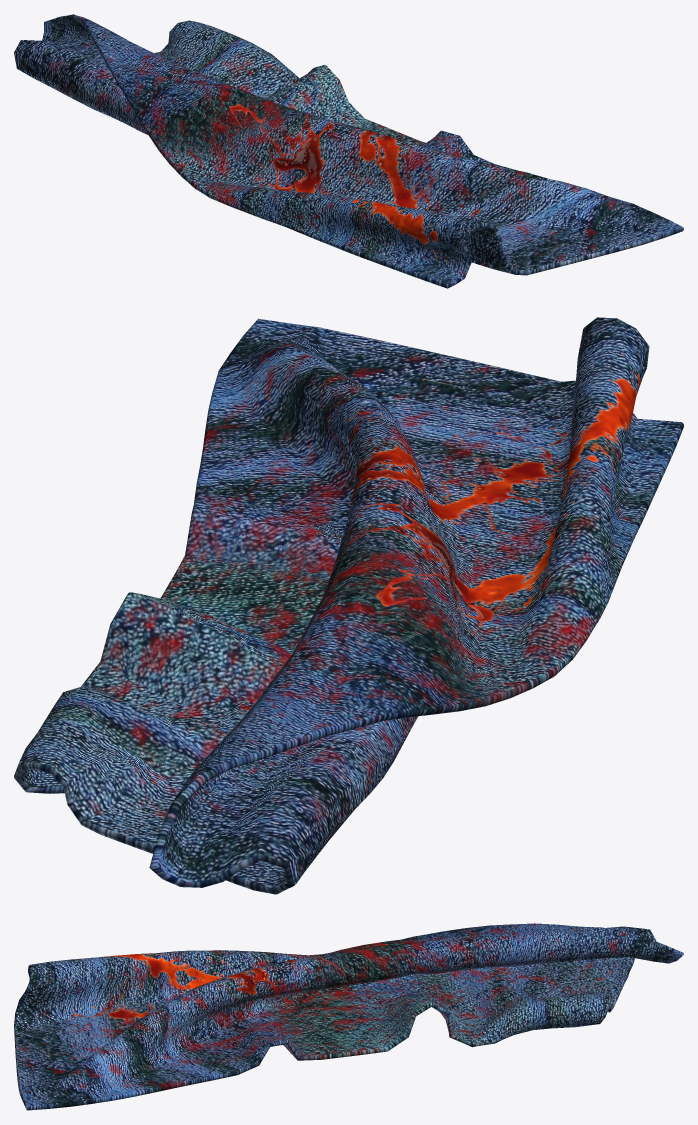
File: BloodyTowel.fbx
3 renders of one model, top to bottom at view 1: azimuth 30°, elevation 25°; view 2: azimuth 150°, elevation 25°; view 3: azimuth 270°, elevation 25°, orthographic. The views are drawn at different scales.
Visible parts, largest first — view 1: Towel:pPlane1; view 2: Towel:pPlane1; view 3: Towel:pPlane1.
Part boxes in pixels (x1,y1,x2,y2): Towel:pPlane1: (14, 14, 683, 288); Towel:pPlane1: (14, 317, 683, 894); Towel:pPlane1: (14, 923, 683, 1110).
Size of the model in its own units: 48.78 by 7.57 by 87.25.
